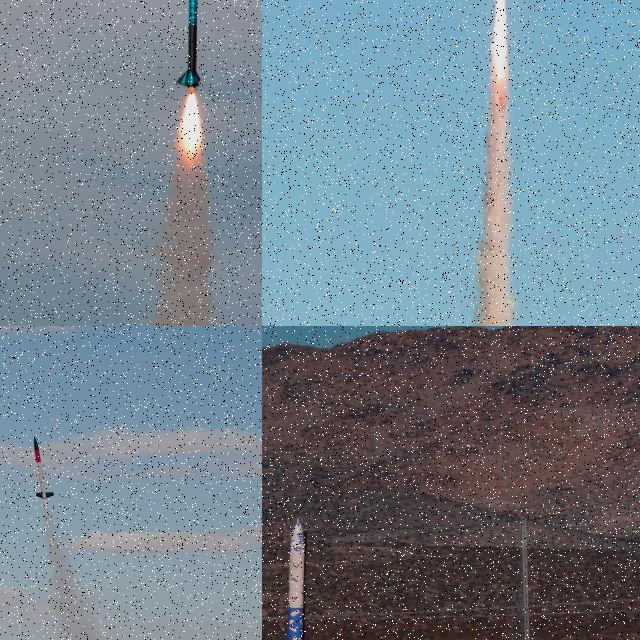Rocket: (275, 517, 314, 640), (174, 0, 202, 88), (33, 436, 55, 500)
